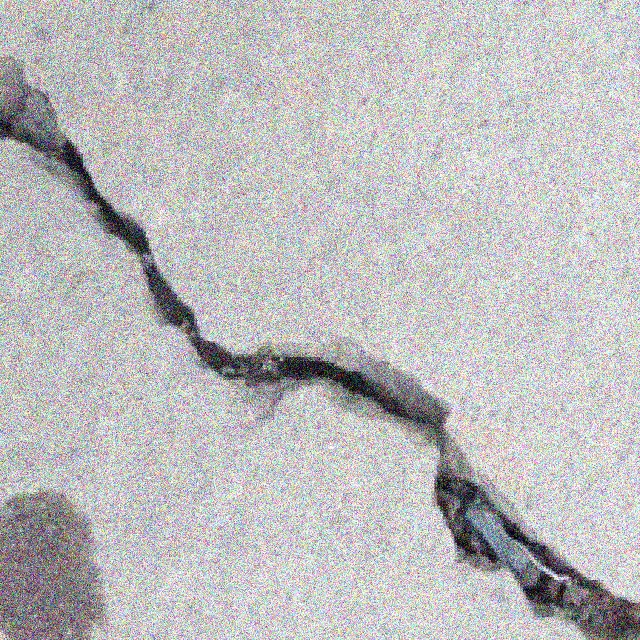SurfaceCrack: (2, 44, 632, 636)
